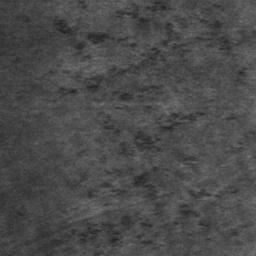Rolled in scale: (0, 0, 245, 256), (207, 131, 256, 166), (8, 212, 31, 246), (15, 177, 44, 194), (233, 224, 249, 245), (234, 67, 246, 85), (16, 91, 28, 101), (225, 116, 238, 123), (78, 0, 87, 10)
